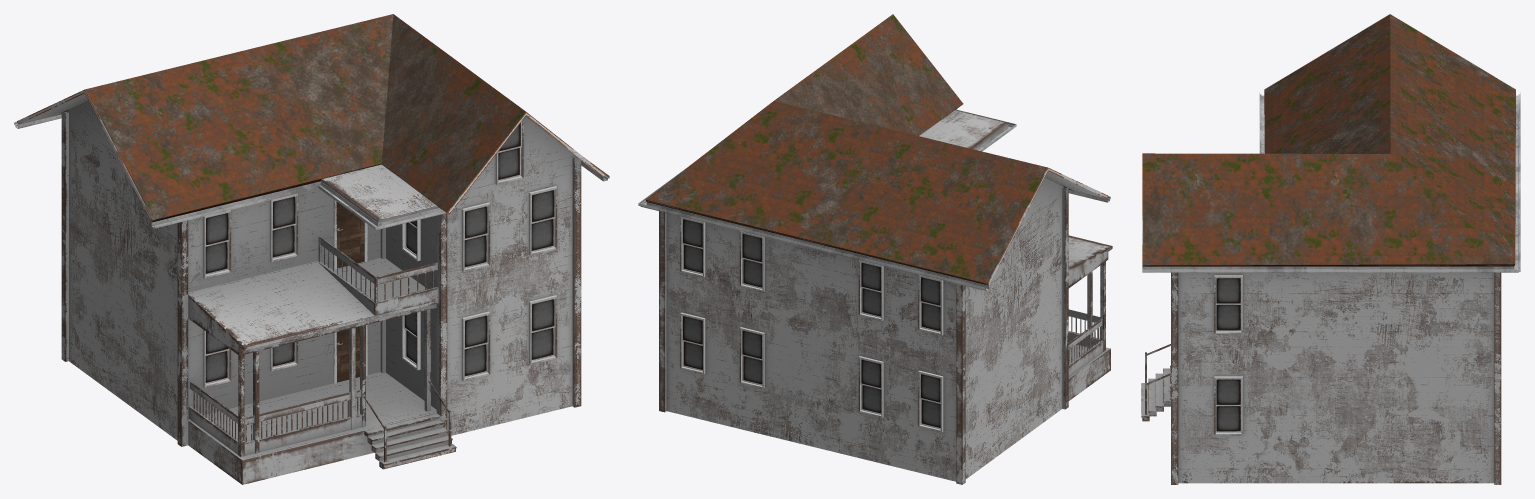
Rendered from abandoned_house2.glb.
3 views of the same model, side by side, from view 1: azimuth 30°, elevation 25°; view 2: azimuth 150°, elevation 25°; view 3: azimuth 270°, elevation 25° (orthographic). The views are drawn at different scales.
Visible parts, largest first — view 1: BaseHouse.010 (×2); view 2: BaseHouse.010 (×2); view 3: BaseHouse.010 (×2).
Boxes of the visible parts, x1=… form: BaseHouse.010 (×2): x1=14, y1=14, x2=609, y2=484; BaseHouse.010 (×2): x1=638, y1=14, x2=1112, y2=484; BaseHouse.010 (×2): x1=1141, y1=14, x2=1520, y2=484.
Size of the model in its own units: 10.79 by 8.5 by 9.76.
Materials: 2 (2 with a texture image).
